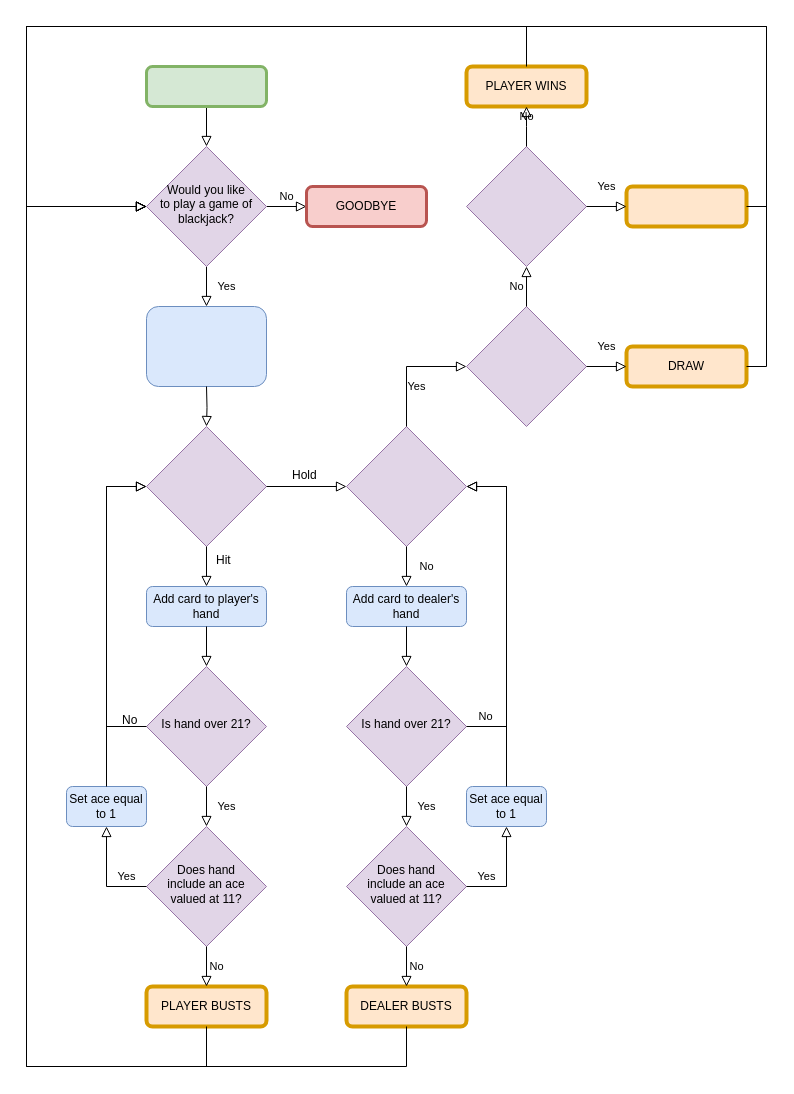
Some shapes in this 794 by 1094 pixel diagram are drawn without their labels. The shapes that lost their labels are listed below. From the top down, each one's centre as x and y in pixels, then its label:
the point at 206,86: START
the point at 526,206: Is Dealer hand > Player hand?
the point at 686,206: DEALER WINS
the point at 206,346: Show player's cards and total Show dealers first card
the point at 526,366: Is Dealer hand = Player hand?
the point at 206,486: Would you like to HIT or HOLD?
the point at 406,486: Is dealer hand >17?
